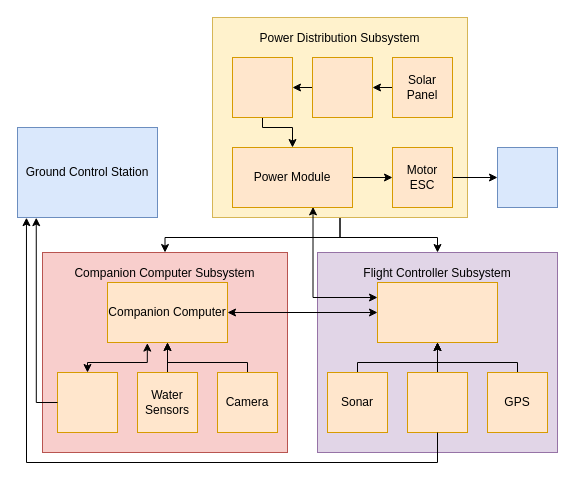
Image size: 575x488. Some labels were removed from this diagram. The centre of each missing label's shape, as x and y in pixels:
"4G Modem" goes at pixel 87 402.
"Battery" goes at pixel 262 87.
"Charge Controller" goes at pixel 342 87.
"Flight Controller" goes at pixel 437 312.
"Motors" goes at pixel 527 177.
"RC Receiver" goes at pixel 437 402.
